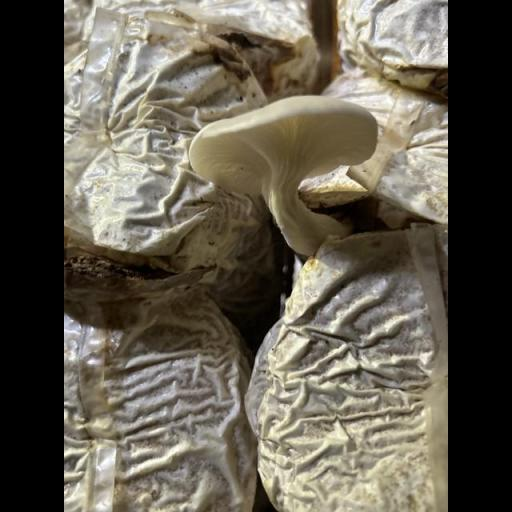White Oyster Mushroom: (186, 95, 378, 259)
